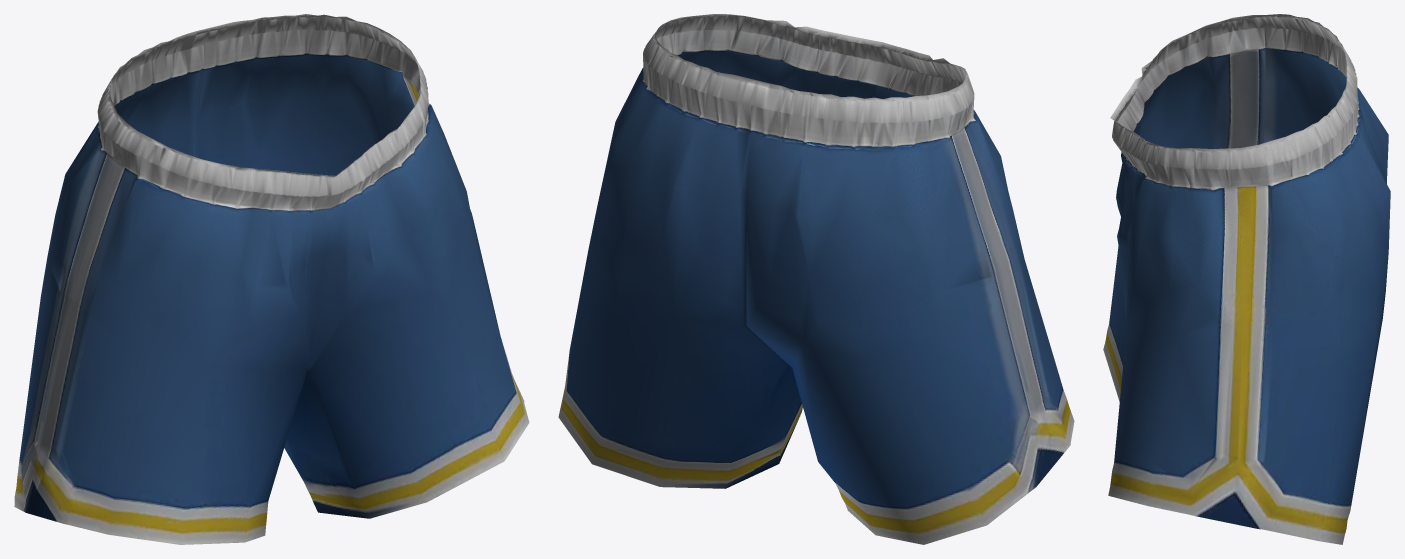
Rendered from 레벨2_런닝용 반바지.glb.
The picture shows the model from 3 angles, left to right: view 1: azimuth 30°, elevation 25°; view 2: azimuth 150°, elevation 25°; view 3: azimuth 270°, elevation 25°; orthographic projection. The views are drawn at different scales.
Parts seen in each view (by area): view 1: tripo_node_c5535c13-b0f1-444f-8bbd-0a72738a2712; view 2: tripo_node_c5535c13-b0f1-444f-8bbd-0a72738a2712; view 3: tripo_node_c5535c13-b0f1-444f-8bbd-0a72738a2712.
Part boxes in pixels (x1,y1,x2,y2): tripo_node_c5535c13-b0f1-444f-8bbd-0a72738a2712: [14, 14, 529, 544]; tripo_node_c5535c13-b0f1-444f-8bbd-0a72738a2712: [558, 14, 1074, 544]; tripo_node_c5535c13-b0f1-444f-8bbd-0a72738a2712: [1103, 14, 1390, 544].
Size of the model in its own units: 0.998 by 0.9316 by 0.5723.
1 material, 1 textured.
